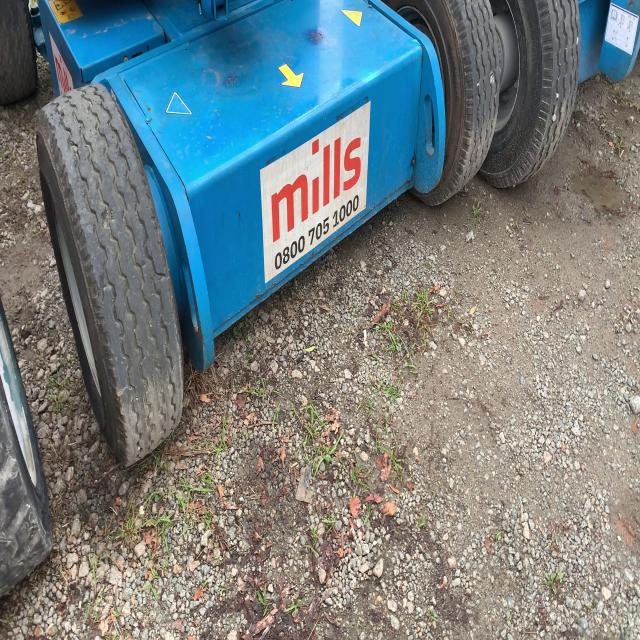Adesivos: (258, 99, 372, 290)
